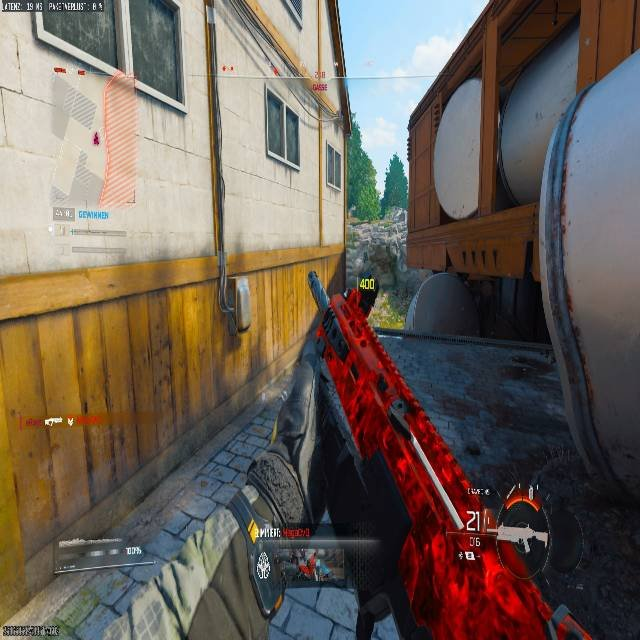player: (308, 550, 318, 577)
